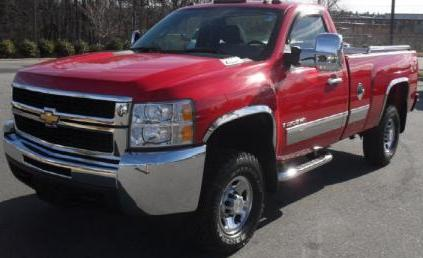front_view: (2, 68, 203, 220)
headlight: (123, 95, 199, 152)
side_glass: (290, 11, 352, 79)
